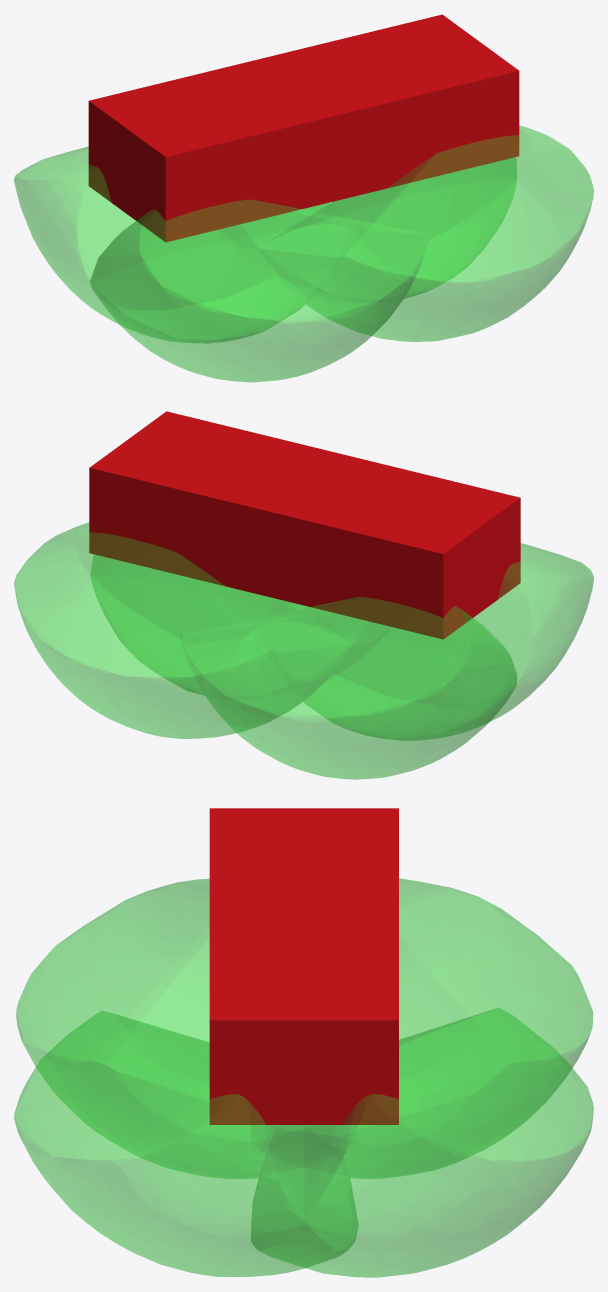
Rendered from hyq_visual.dae.
The picture shows the model from 3 angles, top to bottom: view 1: azimuth 30°, elevation 25°; view 2: azimuth 150°, elevation 25°; view 3: azimuth 270°, elevation 25°; orthographic projection. The views are drawn at different scales.
Visible parts, largest first — view 1: Hyq_All, Hyq_All_002, Hyq_All_001, Hyq_All_003, Hyq_All_004; view 2: Hyq_All, Hyq_All_004, Hyq_All_003, Hyq_All_001, Hyq_All_002; view 3: Hyq_All, Hyq_All_004, Hyq_All_002, Hyq_All_001, Hyq_All_003.
Part boxes in pixels (<box>): Hyq_All: <box>88,14,519,242</box>; Hyq_All_002: <box>257,125,593,341</box>; Hyq_All_001: <box>90,200,428,382</box>; Hyq_All_003: <box>14,146,328,343</box>; Hyq_All_004: <box>302,157,516,298</box>; Hyq_All: <box>89,411,520,639</box>; Hyq_All_004: <box>14,522,348,738</box>; Hyq_All_003: <box>181,597,517,779</box>; Hyq_All_001: <box>280,543,593,740</box>; Hyq_All_002: <box>90,555,309,695</box>; Hyq_All: <box>209,808,398,1124</box>; Hyq_All_004: <box>251,1008,593,1277</box>; Hyq_All_002: <box>14,1011,358,1276</box>; Hyq_All_001: <box>16,878,295,1178</box>; Hyq_All_003: <box>314,878,593,1178</box>.
Size of the model in its own units: 1.98 by 1.86 by 1.04.
